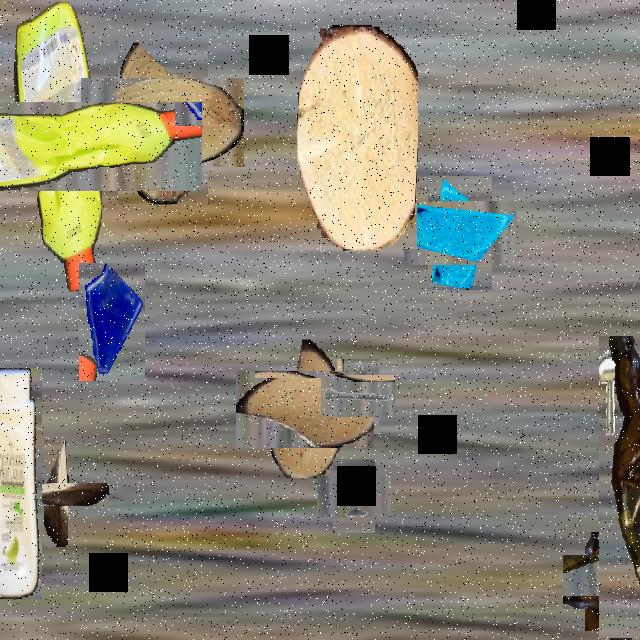glass: (416, 188, 504, 278), (79, 263, 145, 381)
metal: (574, 542, 640, 620), (329, 367, 387, 426), (325, 467, 383, 525)
plastic: (0, 51, 152, 240), (599, 336, 640, 638), (0, 368, 42, 599)
wood: (297, 25, 417, 249), (100, 59, 226, 186), (251, 355, 359, 463), (23, 461, 88, 527)
